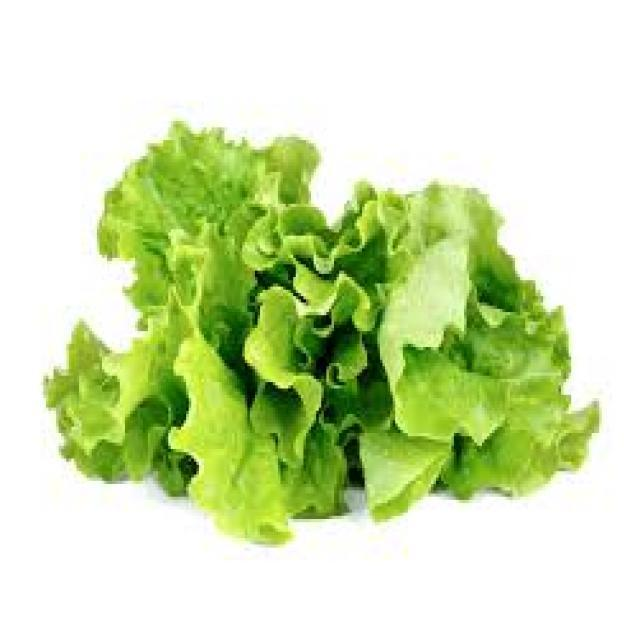Lettuce: (45, 113, 593, 530)
